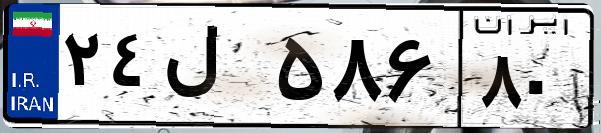0: (525, 38, 570, 115)
2: (57, 26, 110, 100)
4: (110, 28, 158, 98)
5: (270, 28, 330, 110)
6: (385, 28, 445, 110)
8: (330, 28, 385, 110), (475, 38, 525, 113)
ل: (158, 20, 270, 120)
